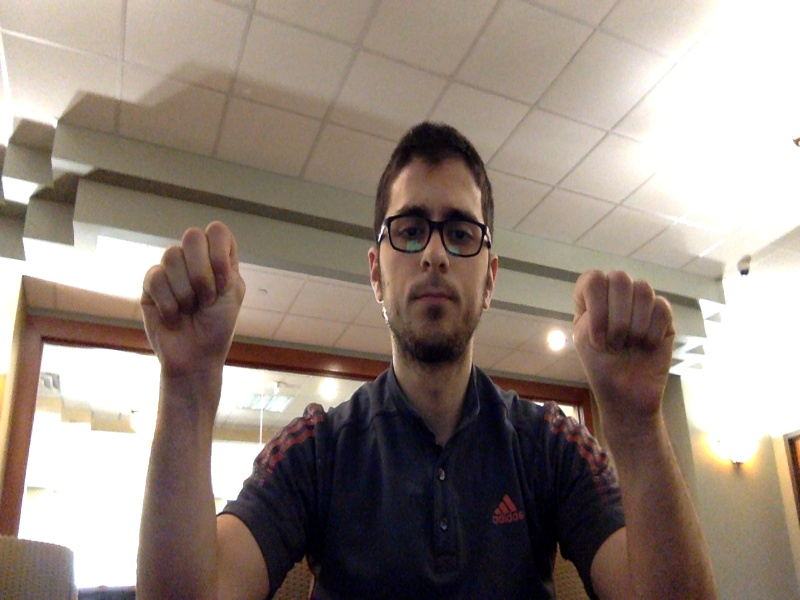0-hand: (574, 270, 674, 426), (139, 222, 243, 370)
